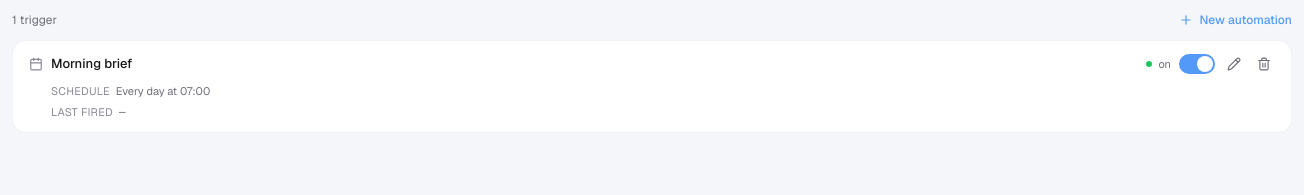
Scenario: useTriggers — create and delete over the wire › surfaces a failed toggle without dropping the row
This screenshot has width=1304, height=195.
What coordinates should you click on to do the following:
click the switch named "Enable or disable Morning brief"
I would click on:
 (1197, 64)
Its box is [1179,54,1215,74].
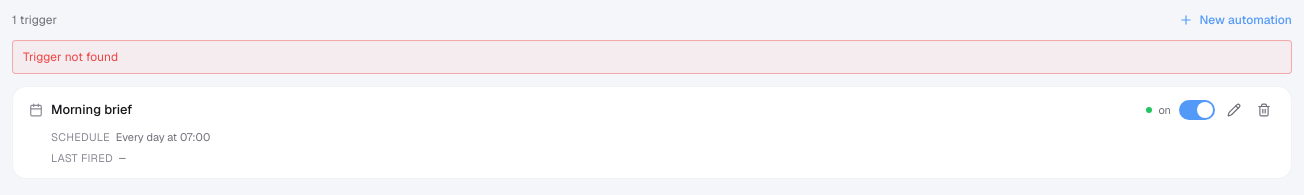
Now the text with test id "automations-error" reads "Trigger not found", box [23,49,118,65]
